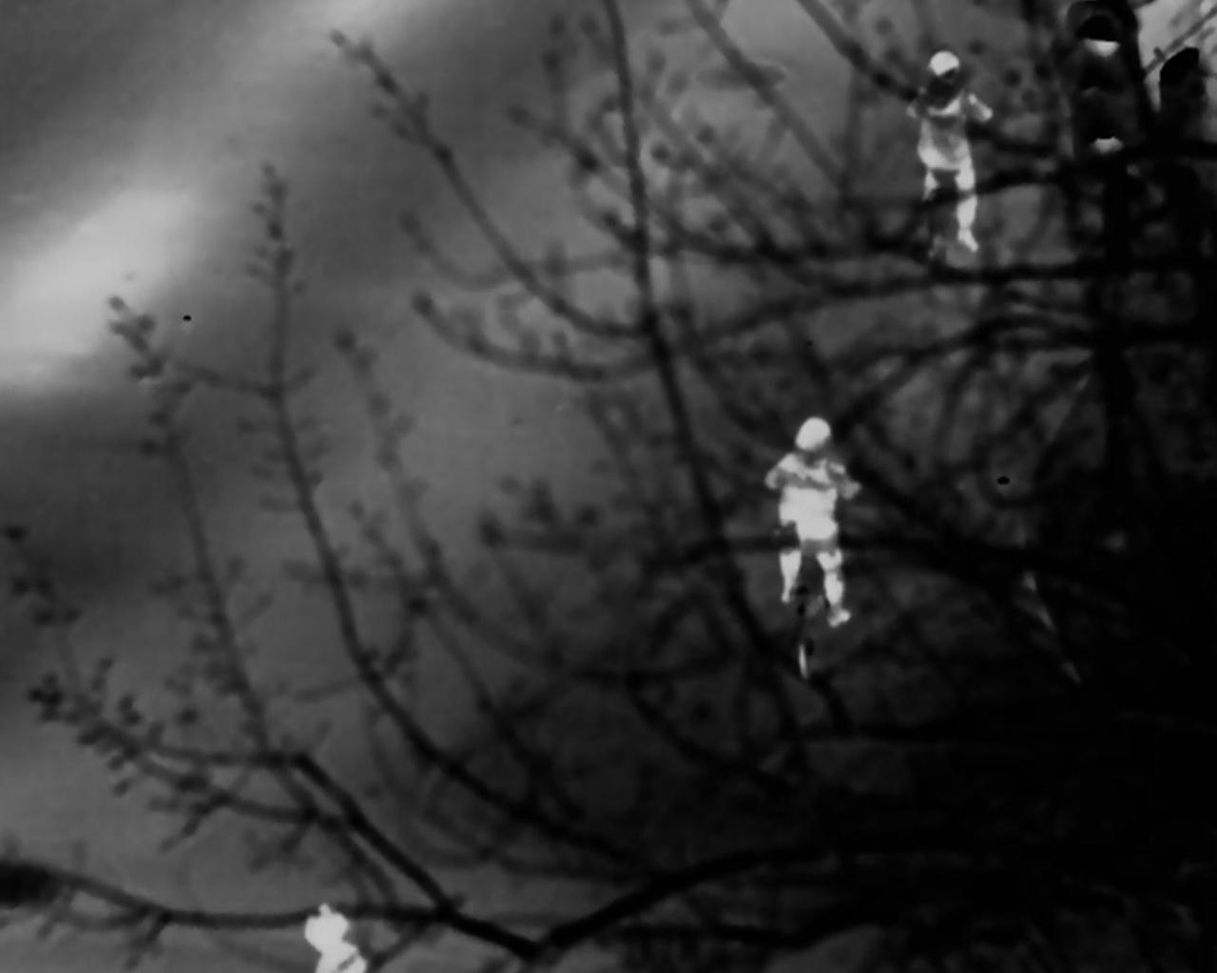person: (765, 408, 860, 635), (911, 56, 1002, 239)
